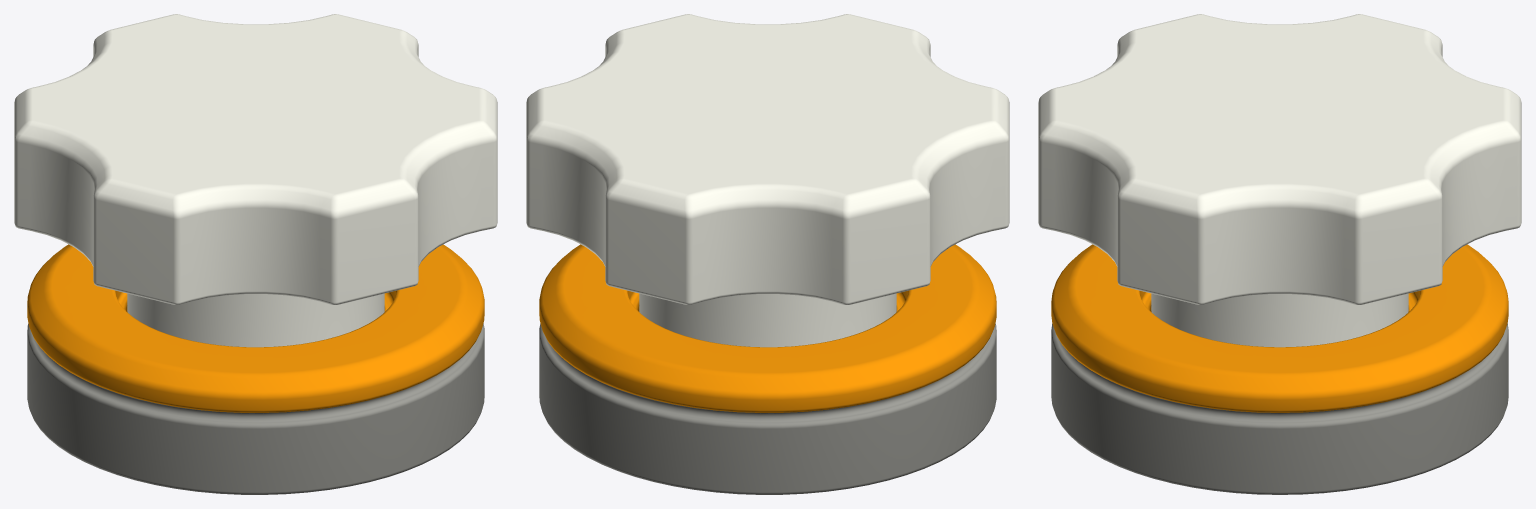
The model's file is Knob #13.fbx.
3 views of the same model, side by side, from view 1: azimuth 30°, elevation 25°; view 2: azimuth 150°, elevation 25°; view 3: azimuth 270°, elevation 25° (orthographic).
Parts seen in each view (by area): view 1: kitbash_33; view 2: kitbash_33; view 3: kitbash_33.
Boxes of the visible parts, box(x1,y1,x2,y2) form: kitbash_33: box(14, 14, 497, 494); kitbash_33: box(526, 14, 1009, 494); kitbash_33: box(1038, 14, 1521, 494).
Bounding box in the file's own units: 7.17 × 5.03 × 7.45.
